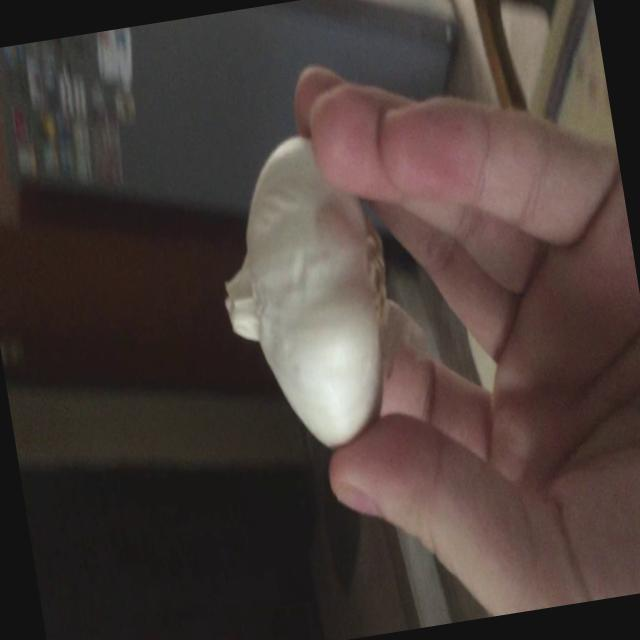garlic: (195, 112, 426, 468)
